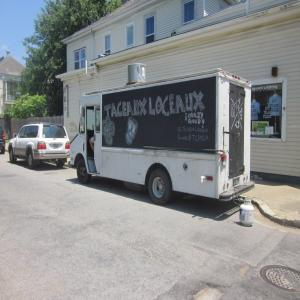Vehicle-registration-plate: (54, 145, 60, 150)
